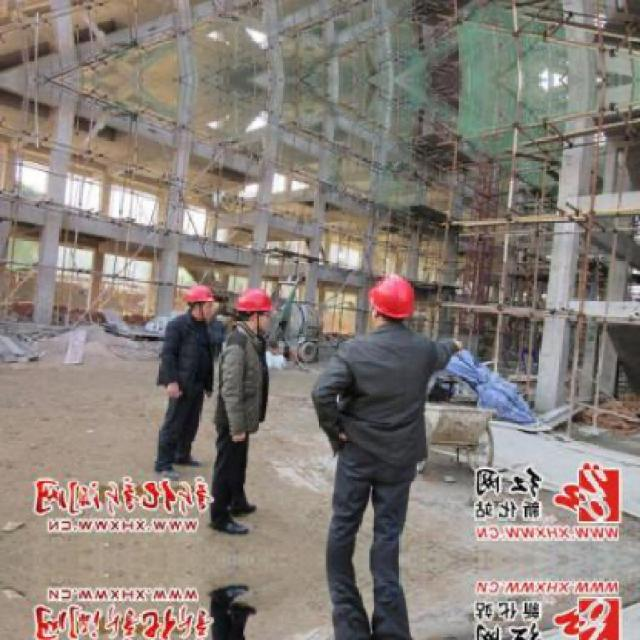helmet: (364, 274, 418, 334), (234, 288, 278, 338), (184, 285, 222, 317)
